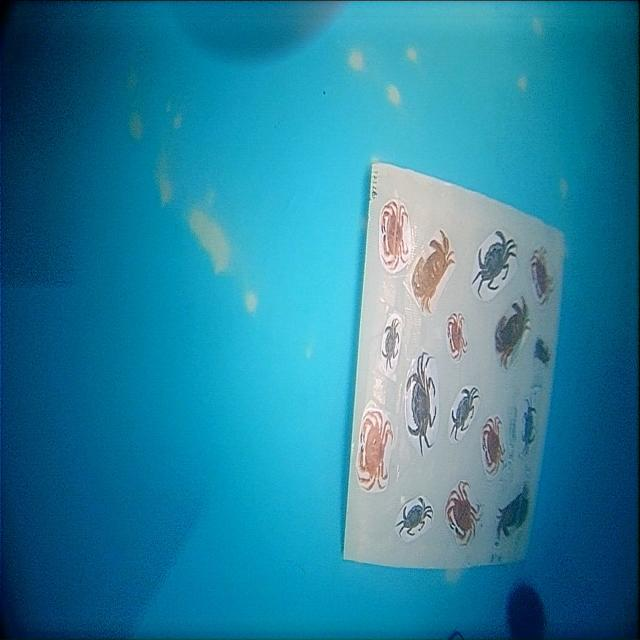GreenCrab: (406, 352, 436, 455), (472, 231, 517, 295), (450, 388, 479, 440), (396, 497, 433, 535)
